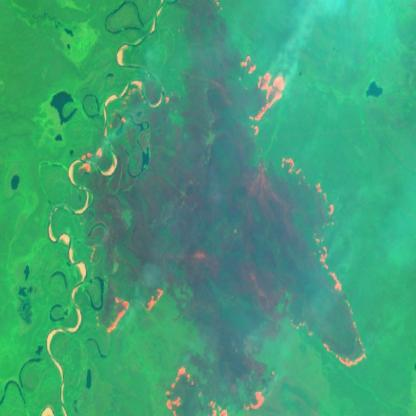fire: (270, 235, 375, 378), (138, 359, 276, 416), (276, 156, 344, 230), (85, 278, 171, 336), (240, 51, 288, 140), (188, 245, 215, 270)
